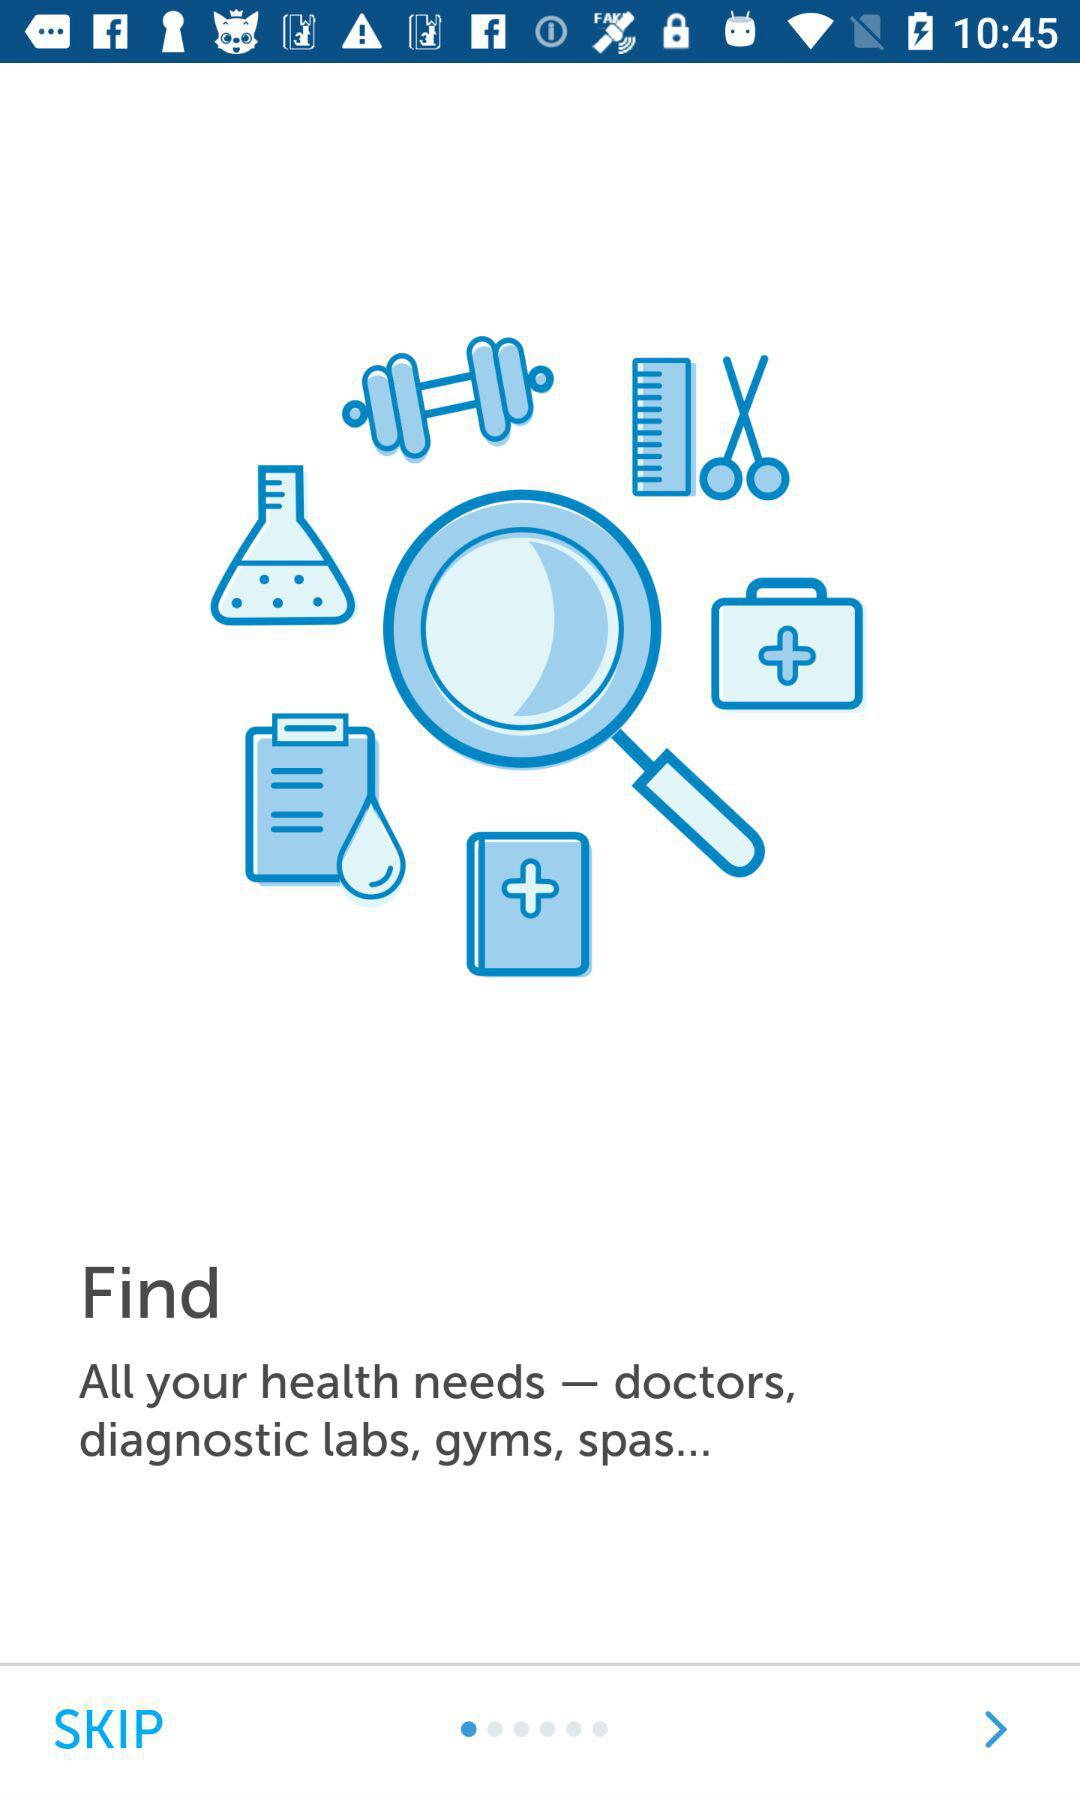Icon: (984, 1709, 1010, 1749)
Image: (208, 334, 866, 980)
PageIndicator: (460, 1718, 610, 1739)
Text: (77, 1361, 797, 1469), (83, 1263, 222, 1322), (53, 1707, 167, 1750)
UpperTaskBar: (1, 1, 1080, 64)
